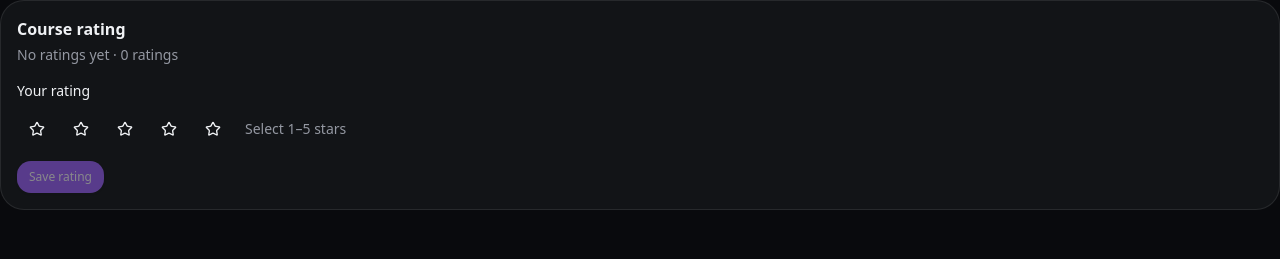
Test: CourseRatingPanel › shows a clear error when saving a rating fails
Click the button named "Rate 5 out of 5 stars". click: (213, 129)
box: [193,109,233,149]
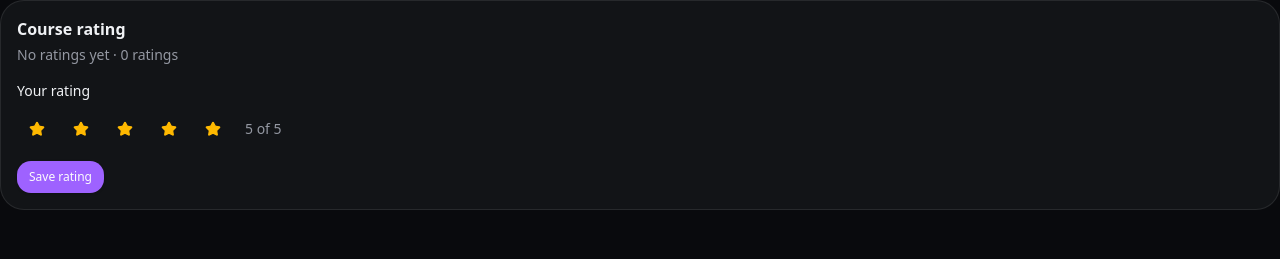
Click the button "Save rating". click: (60, 177)
box: [17,161,104,193]
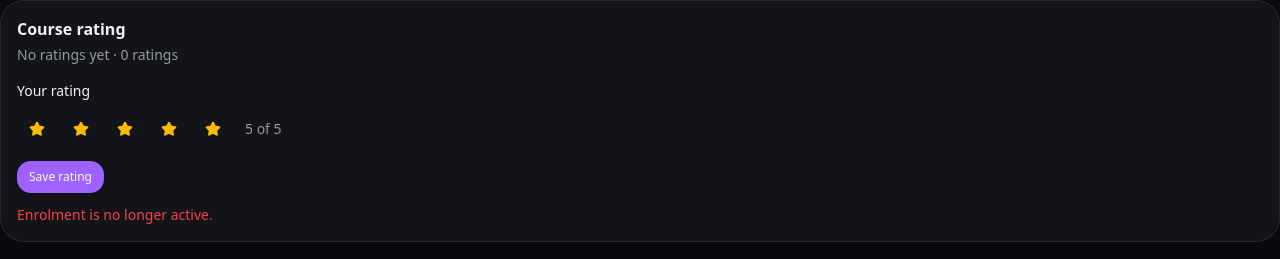
expect the message reads "Enrolment is no longer active.": met, box [17,205,213,224]
